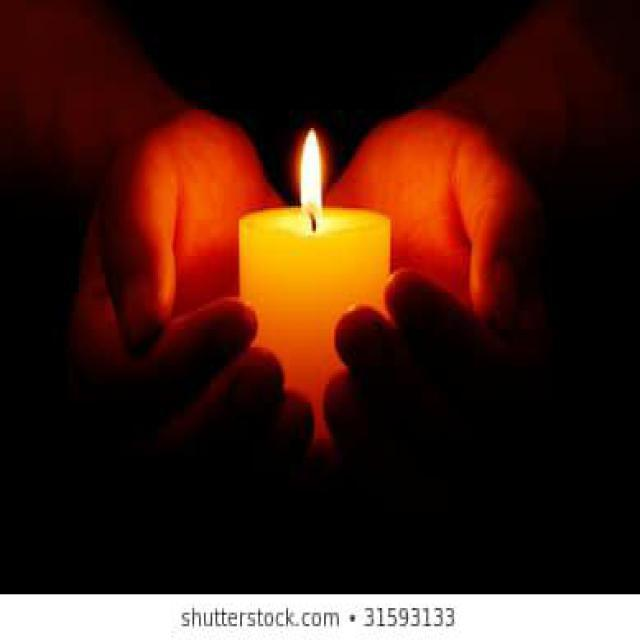Fire: (300, 129, 322, 221)
